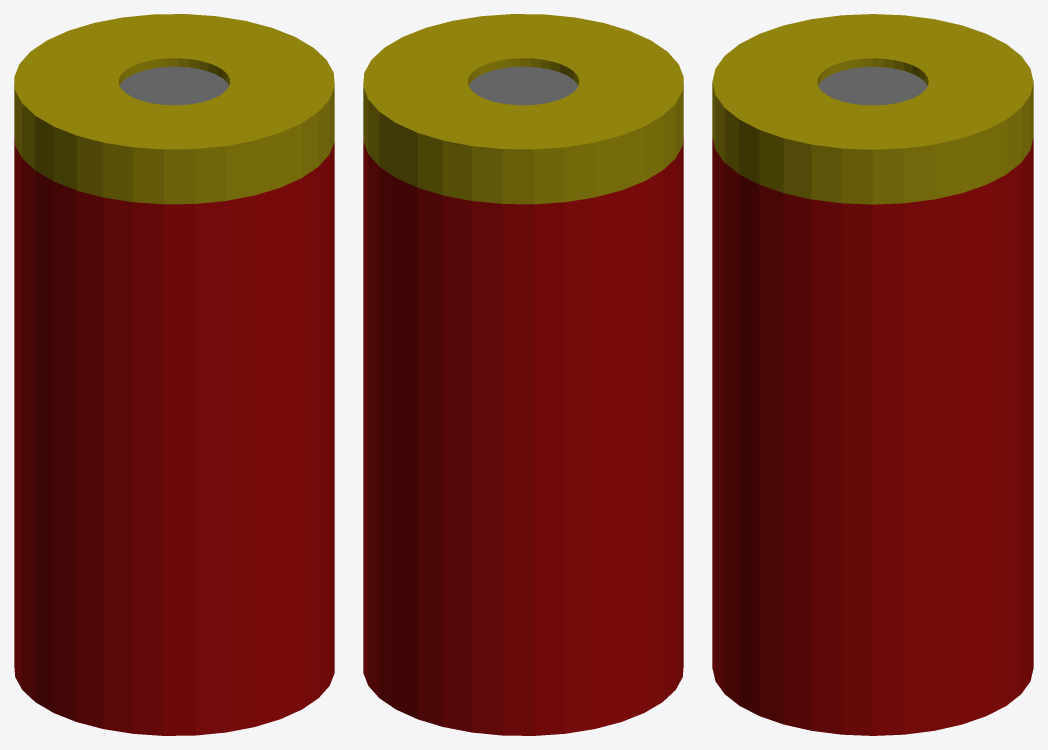
The model's file is smallshotpickup.fbx.
3 views of the same model, side by side, from view 1: azimuth 30°, elevation 25°; view 2: azimuth 150°, elevation 25°; view 3: azimuth 270°, elevation 25° (orthographic).
Visible parts, largest first — view 1: Cube; view 2: Cube; view 3: Cube.
Boxes of the visible parts, x1,y1,x2,y2 form: Cube: [14, 14, 334, 735]; Cube: [363, 14, 683, 735]; Cube: [712, 14, 1033, 735].
Bounding box in the file's own units: 92.4 × 186 × 92.4.
